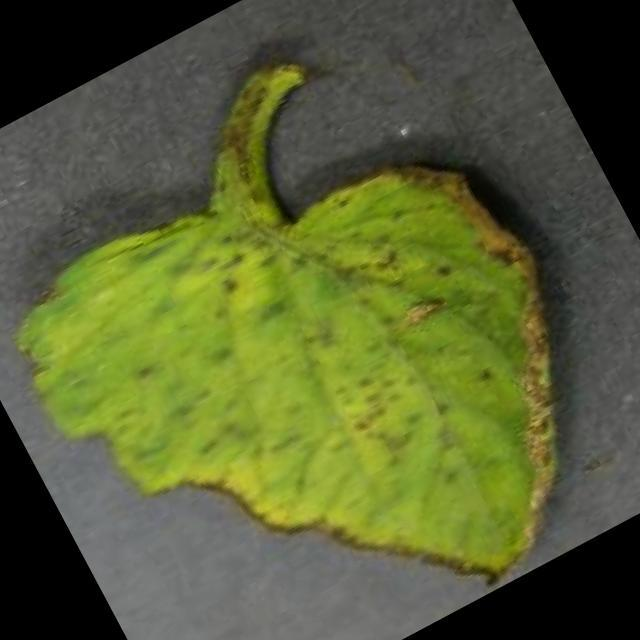Tomato bacterial spot leaf: (0, 58, 640, 640)
